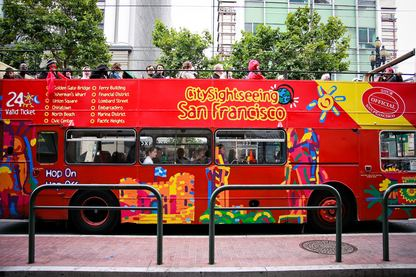bus: (0, 49, 416, 234)
